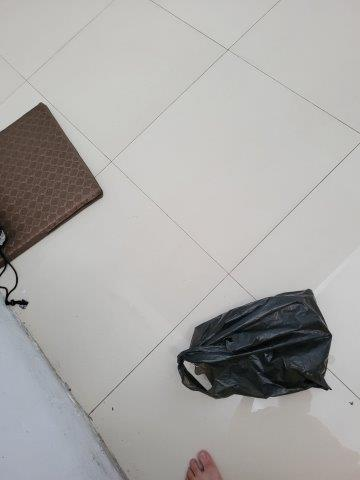plastik: (180, 289, 333, 401)
